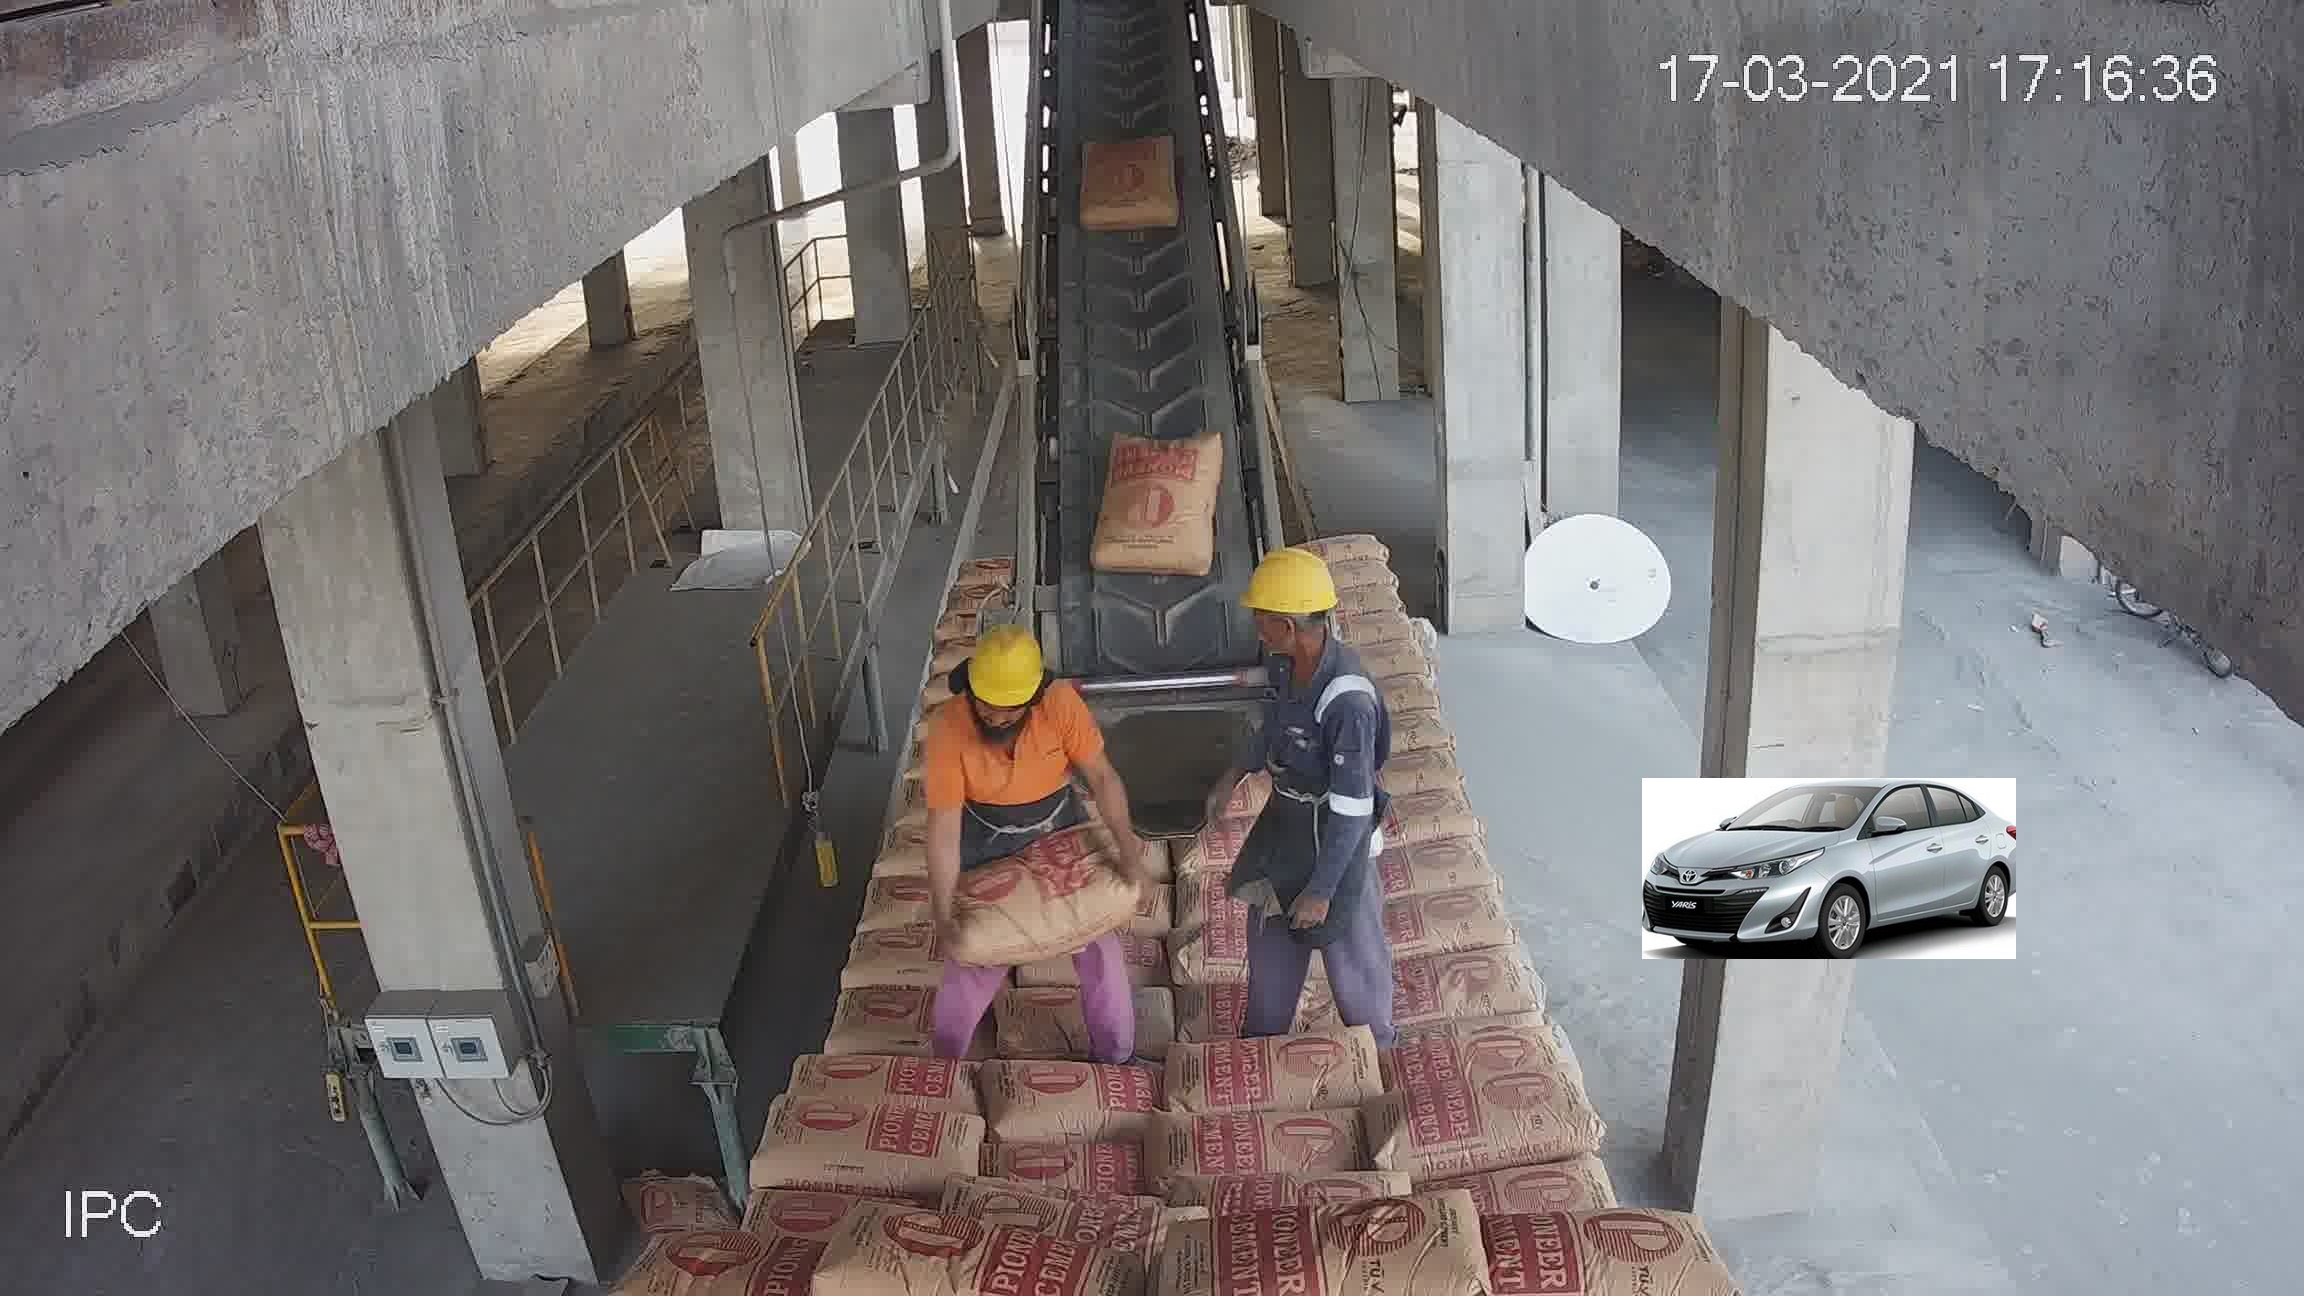bag: (1089, 438, 1225, 571), (1074, 133, 1184, 248)
bag_h: (1141, 1180, 1481, 1296), (788, 1215, 1128, 1296), (927, 836, 1135, 965), (1483, 1206, 1750, 1296), (750, 1097, 995, 1195), (1378, 1082, 1579, 1190), (1154, 1103, 1367, 1193), (1359, 1014, 1573, 1100), (1176, 1013, 1383, 1098), (975, 1067, 1180, 1135), (616, 1230, 824, 1296), (1388, 949, 1544, 1033), (1381, 878, 1530, 961), (817, 976, 957, 1059), (1366, 829, 1503, 907), (790, 1055, 983, 1105), (1003, 1138, 1149, 1195), (1312, 557, 1415, 597), (1298, 533, 1407, 570)
belt: (1002, 8, 1285, 726)
